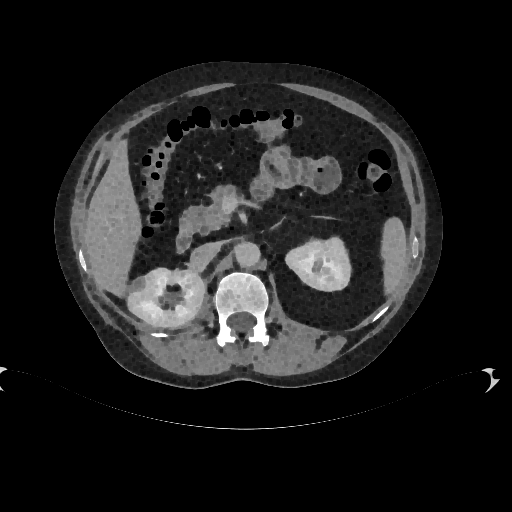Lesion: (129, 278, 146, 294)
